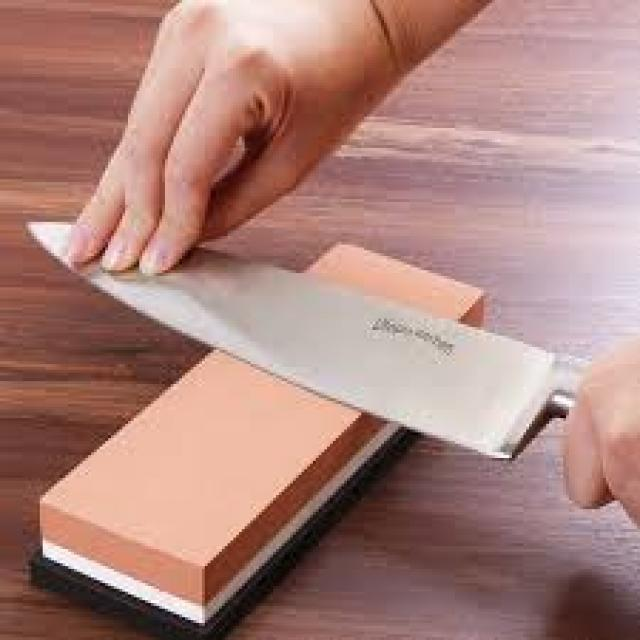knife: (32, 135, 640, 524)
